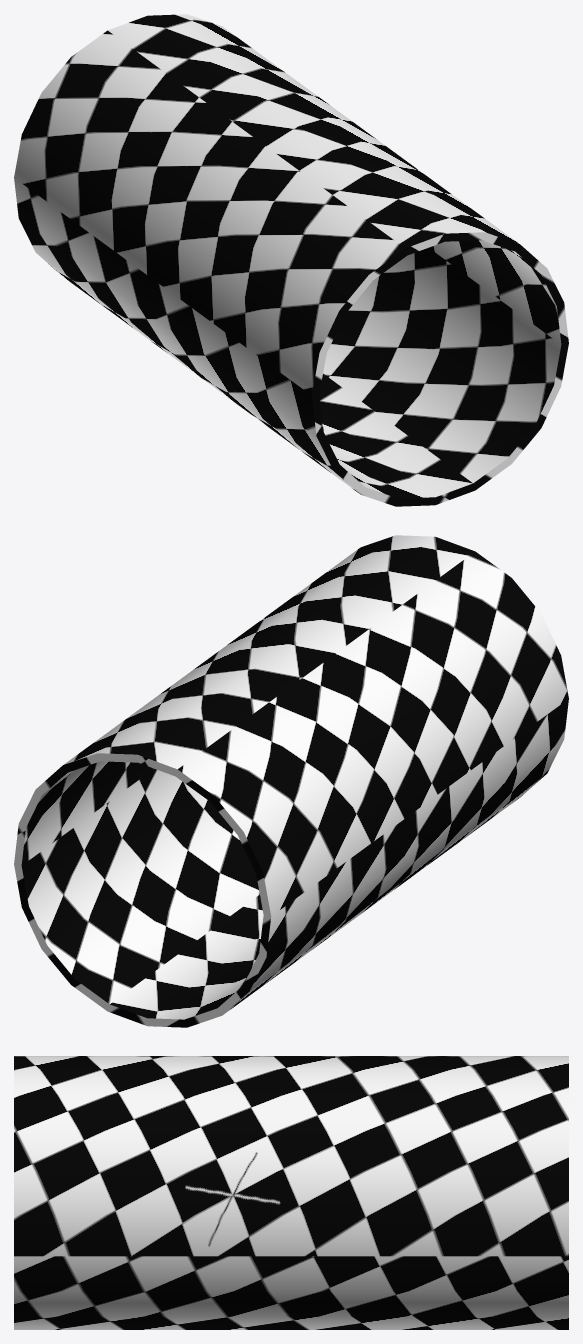
Rendered from barrel_B.fbx.
The picture shows the model from 3 angles, top to bottom: view 1: azimuth 30°, elevation 25°; view 2: azimuth 150°, elevation 25°; view 3: azimuth 270°, elevation 25°; orthographic projection. The views are drawn at different scales.
Visible parts, largest first — view 1: pPipe1; view 2: pPipe1; view 3: pPipe1.
Part boxes in pixels (x1,y1,x2,y2): pPipe1: (14,14,568,506); pPipe1: (14,535,568,1027); pPipe1: (14,1056,568,1329).
Size of the model in its own units: 6.76 by 6.76 by 13.55.
Materials: 1 (1 with a texture image).
